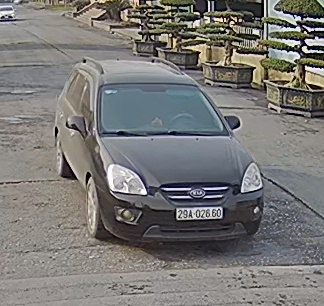vehicle plate: (172, 204, 228, 220)
